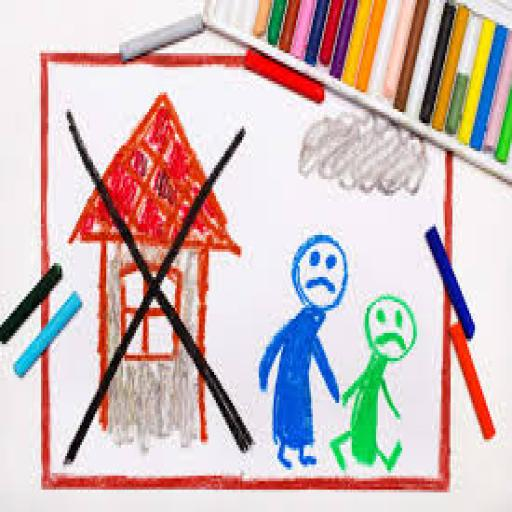person: (260, 230, 352, 472), (332, 286, 421, 476)
